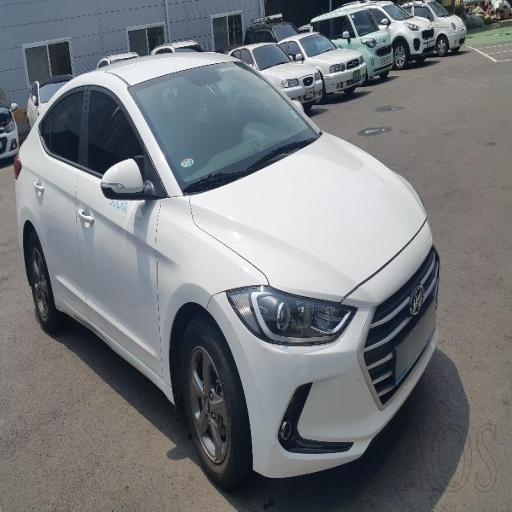normal: (8, 40, 454, 497)
